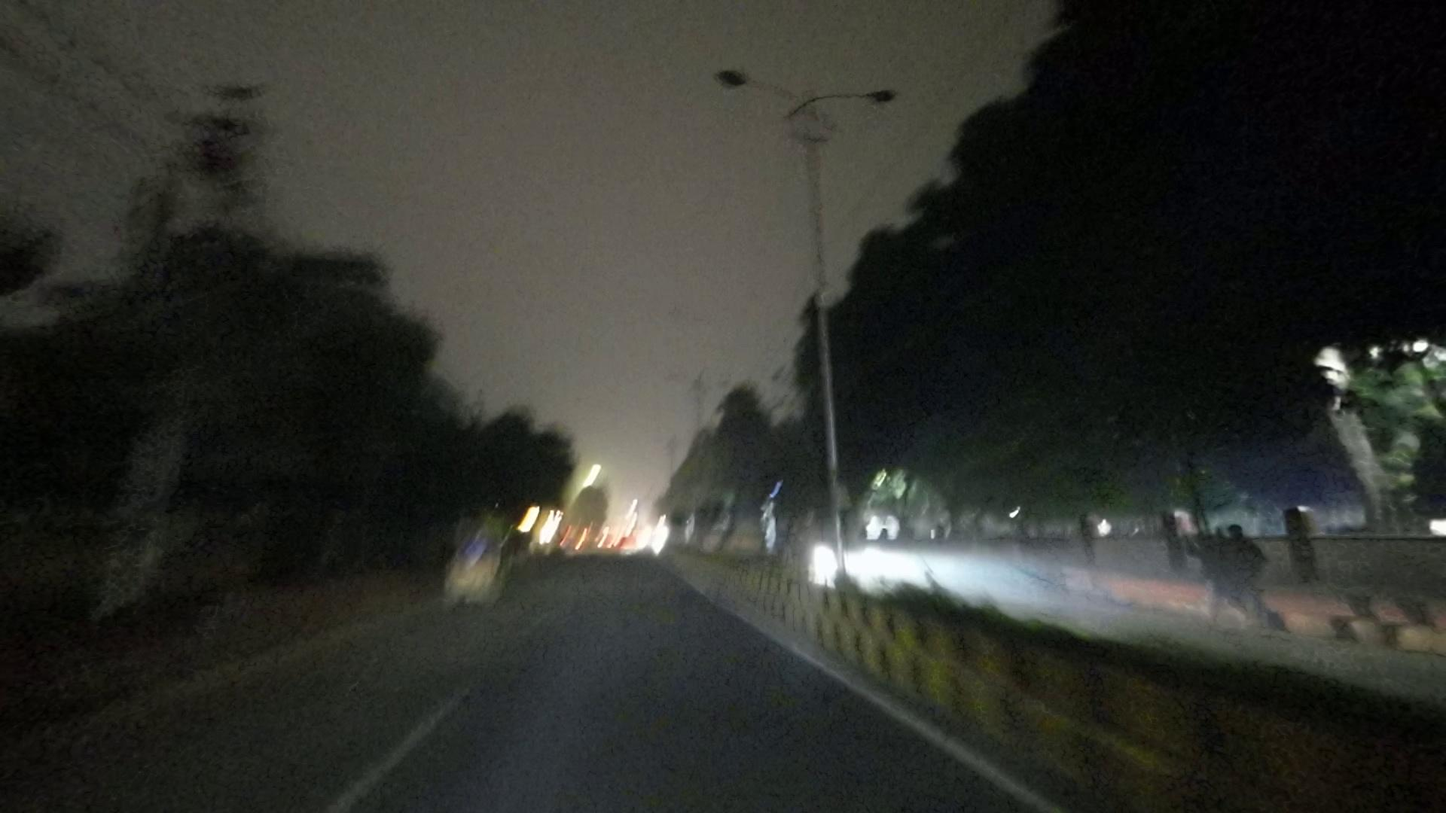streetlight: (710, 67, 799, 101), (812, 85, 899, 107)
